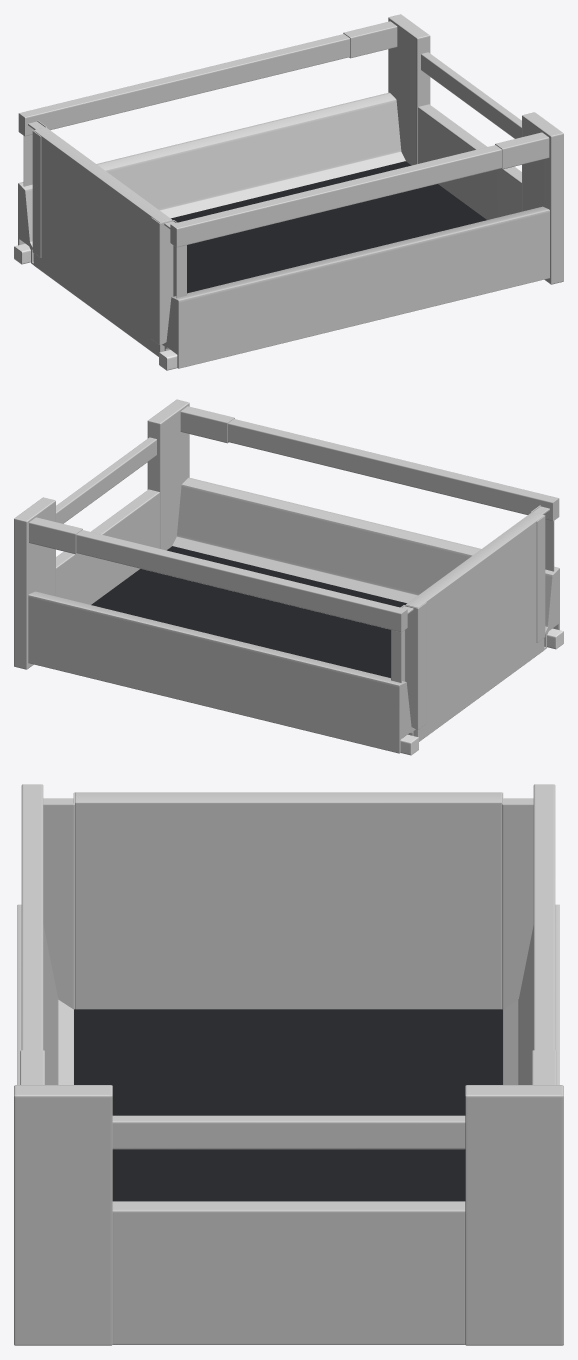
Rendered from Kitchen02Drawer02.fbx.
The picture shows the model from 3 angles, top to bottom: view 1: azimuth 30°, elevation 25°; view 2: azimuth 150°, elevation 25°; view 3: azimuth 270°, elevation 25°; orthographic projection. The views are drawn at different scales.
Parts seen in each view (by area): view 1: Kitchen02Drawer02; view 2: Kitchen02Drawer02; view 3: Kitchen02Drawer02.
Boxes of the visible parts, x1=… form: Kitchen02Drawer02: x1=14, y1=14, x2=563, y2=370; Kitchen02Drawer02: x1=14, y1=399, x2=563, y2=755; Kitchen02Drawer02: x1=14, y1=784, x2=563, y2=1345.
Size of the model in its own units: 50.29 by 36.2 by 18.2.
Materials: 3 (1 with a texture image).
